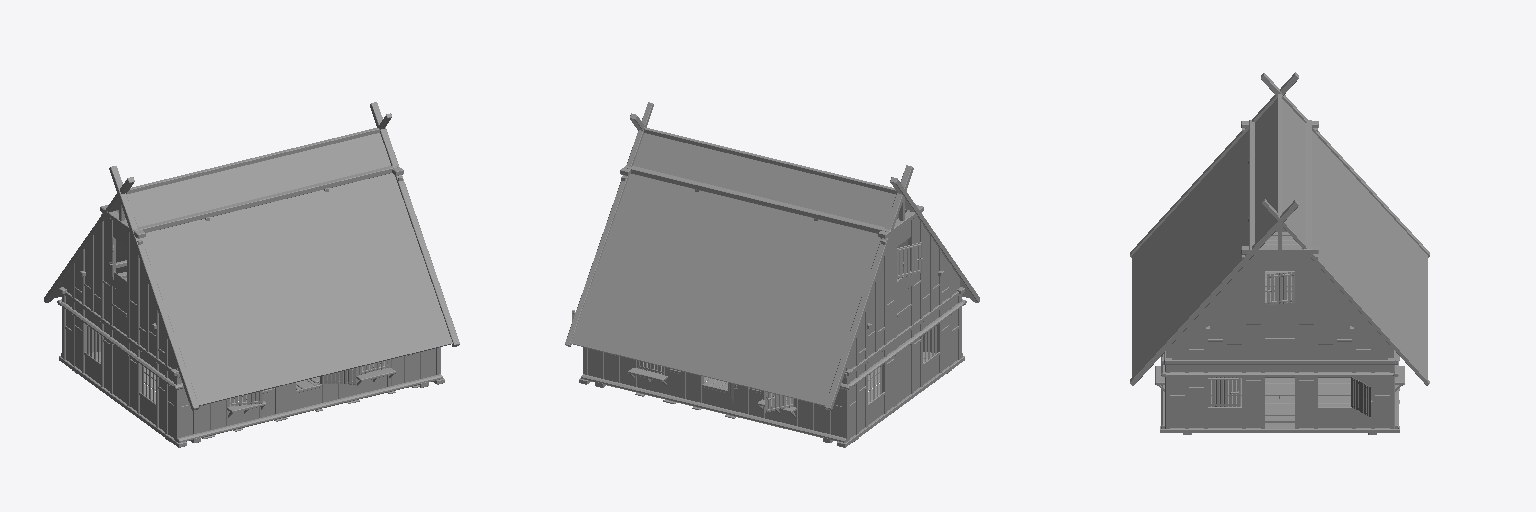
The model's file is -LOD0_c_hut_06.obj.
3 renders of one model, left to right at view 1: azimuth 30°, elevation 25°; view 2: azimuth 150°, elevation 25°; view 3: azimuth 270°, elevation 25°, orthographic.
Visible parts, largest first — view 1: Cube.009, Cube.006_Cube.014, Cube.008_Cube.016, Cube.004_Cube.010; view 2: Cube.009, Cube.006_Cube.014, Cube.008_Cube.016, Cube.004_Cube.010; view 3: Cube.009, Cube.006_Cube.014, Cube.008_Cube.016, Cube.004_Cube.010.
Boxes of the visible parts, x1,y1,x2,y2 form: Cube.009: [53, 133, 452, 405]; Cube.006_Cube.014: [44, 102, 459, 447]; Cube.008_Cube.016: [64, 216, 435, 437]; Cube.004_Cube.010: [109, 238, 387, 405]; Cube.009: [571, 133, 970, 405]; Cube.006_Cube.014: [565, 102, 979, 447]; Cube.008_Cube.016: [588, 216, 959, 437]; Cube.004_Cube.010: [572, 242, 922, 412]; Cube.009: [1132, 98, 1427, 378]; Cube.006_Cube.014: [1130, 72, 1429, 434]; Cube.008_Cube.016: [1166, 227, 1393, 427]; Cube.004_Cube.010: [1208, 272, 1372, 417].
Size of the model in its own units: 18.36 by 13.67 by 15.9.